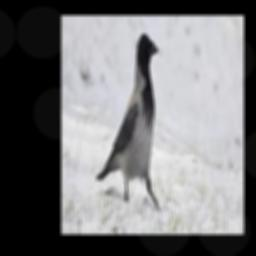Crow: (96, 32, 159, 211)
